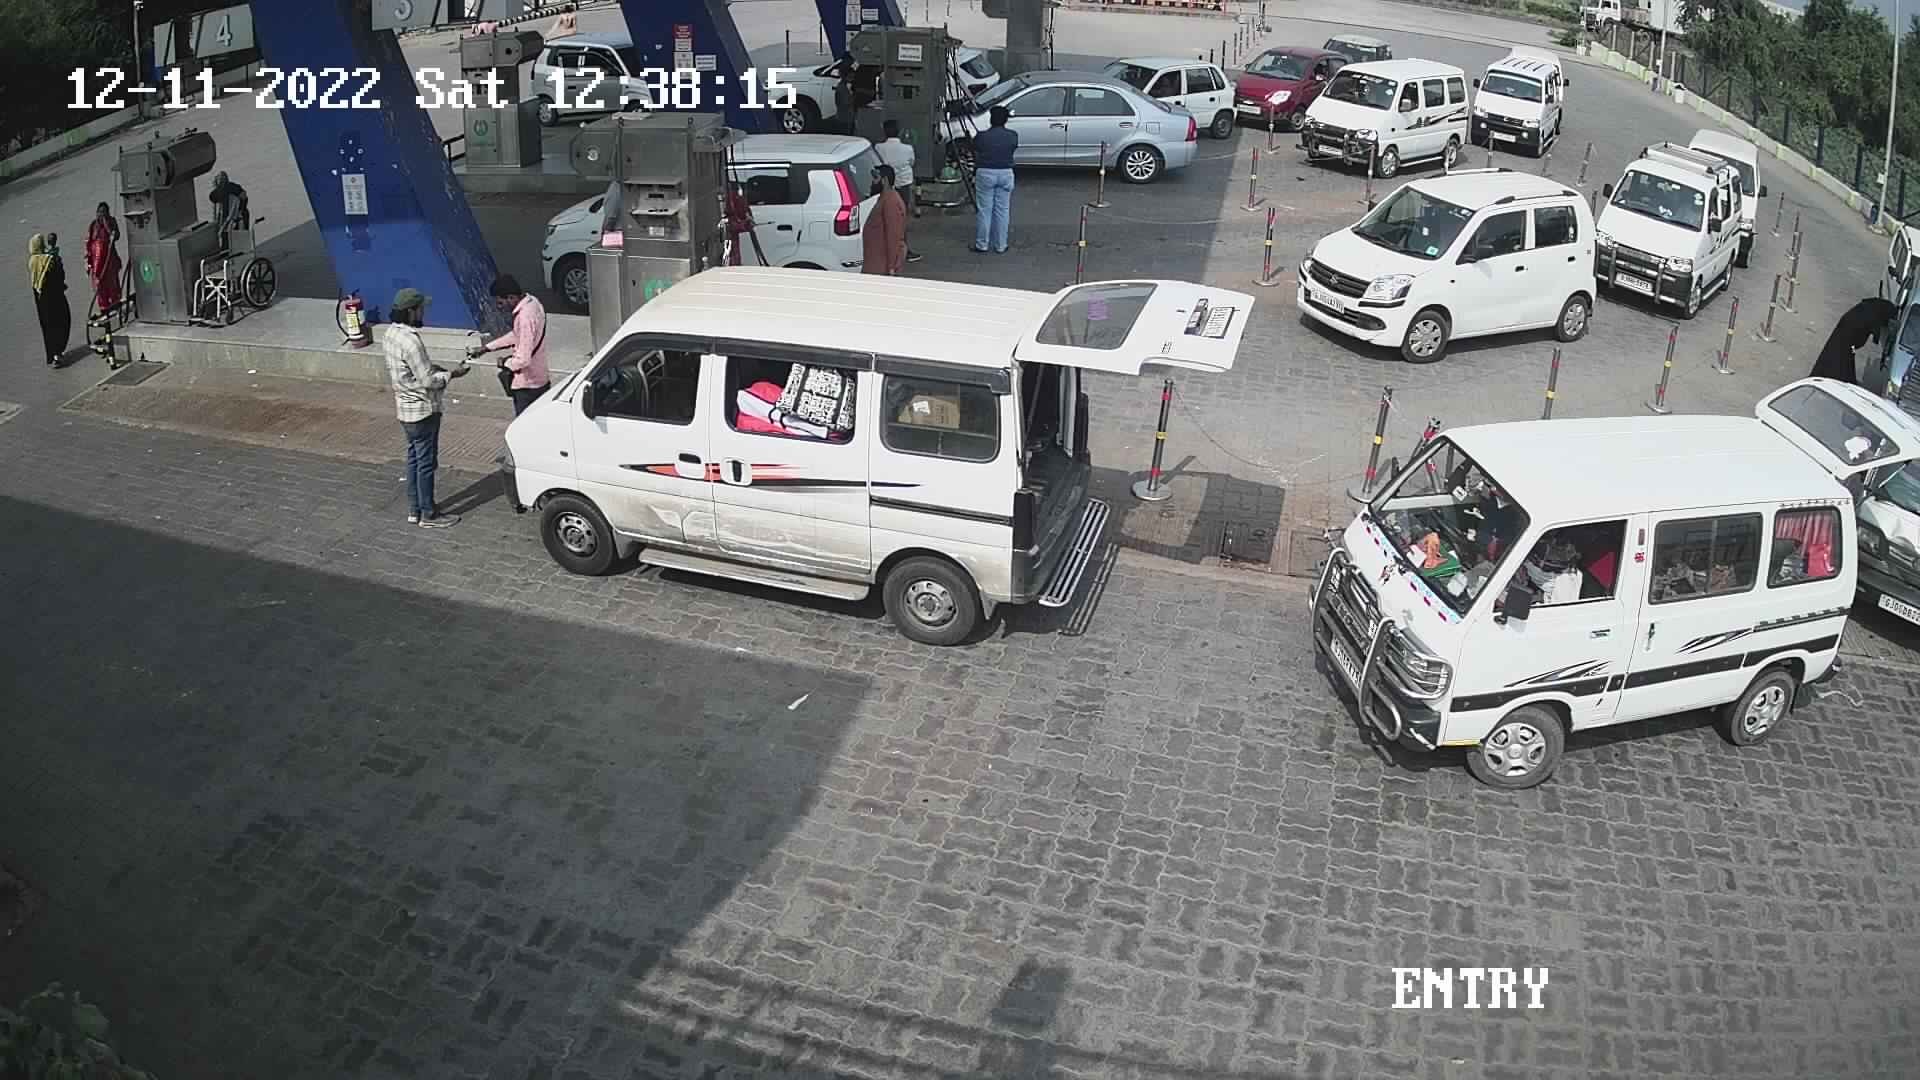Car: (495, 257, 1255, 655), (1295, 367, 1917, 798), (1294, 164, 1594, 369), (930, 65, 1204, 187), (1586, 132, 1749, 323), (720, 123, 909, 276), (1836, 338, 1917, 650), (1290, 50, 1480, 179), (1080, 45, 1247, 148), (520, 22, 654, 133), (1222, 36, 1358, 137), (1683, 117, 1770, 273), (1466, 50, 1571, 164), (754, 33, 855, 137), (1503, 33, 1575, 137), (1870, 215, 1917, 342), (1873, 280, 1917, 407), (1320, 29, 1400, 73)
